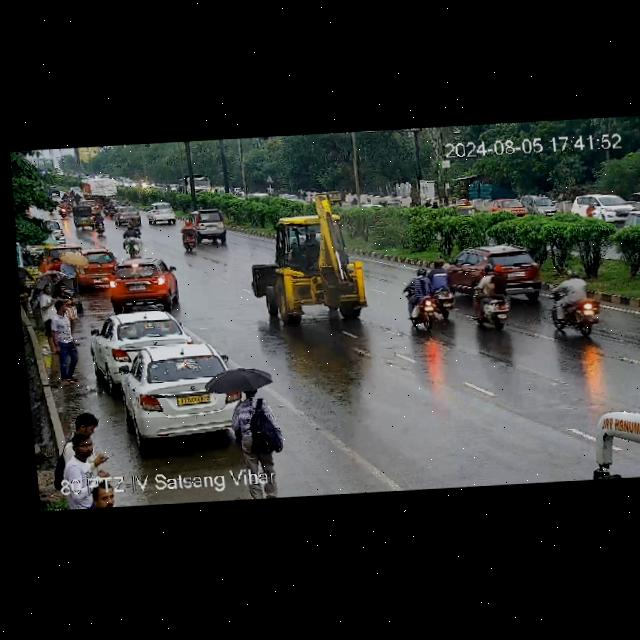bus: (585, 406, 640, 480)
car: (115, 342, 235, 441), (91, 310, 191, 378), (446, 242, 538, 298), (104, 253, 186, 313), (65, 247, 117, 289), (571, 191, 634, 224), (190, 209, 227, 242), (521, 192, 561, 216), (144, 202, 180, 225), (491, 199, 529, 219), (35, 218, 64, 244), (316, 188, 343, 210), (449, 202, 478, 221), (113, 206, 141, 225), (72, 205, 94, 229)
motorcycle: (397, 255, 459, 331), (546, 272, 604, 338), (466, 260, 518, 330), (121, 223, 140, 256), (179, 225, 200, 251), (93, 210, 106, 236), (57, 201, 69, 218)
person: (225, 384, 283, 469), (60, 411, 117, 485), (45, 300, 79, 378), (40, 279, 59, 350)
truck: (249, 208, 369, 325), (81, 176, 119, 200), (174, 172, 210, 196)
